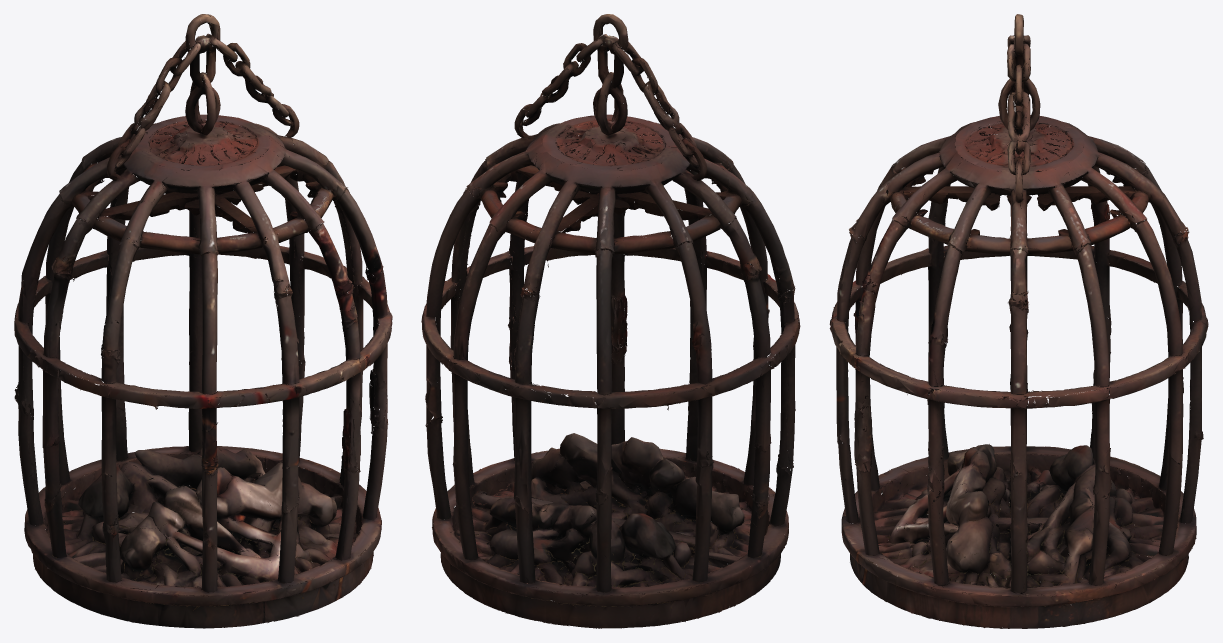
File: decor_iron_cage.gltf
3 views of the same model, side by side, from view 1: azimuth 30°, elevation 25°; view 2: azimuth 150°, elevation 25°; view 3: azimuth 270°, elevation 25° (orthographic).
Parts seen in each view (by area): view 1: model; view 2: model; view 3: model.
Part boxes in pixels (box(x1,y1,x2,y2)): model: box(14, 14, 392, 628); model: box(421, 14, 800, 628); model: box(829, 14, 1208, 628).
Size of the model in its own units: 1.16 by 1.83 by 1.16.
Materials: 1 (1 with a texture image).
